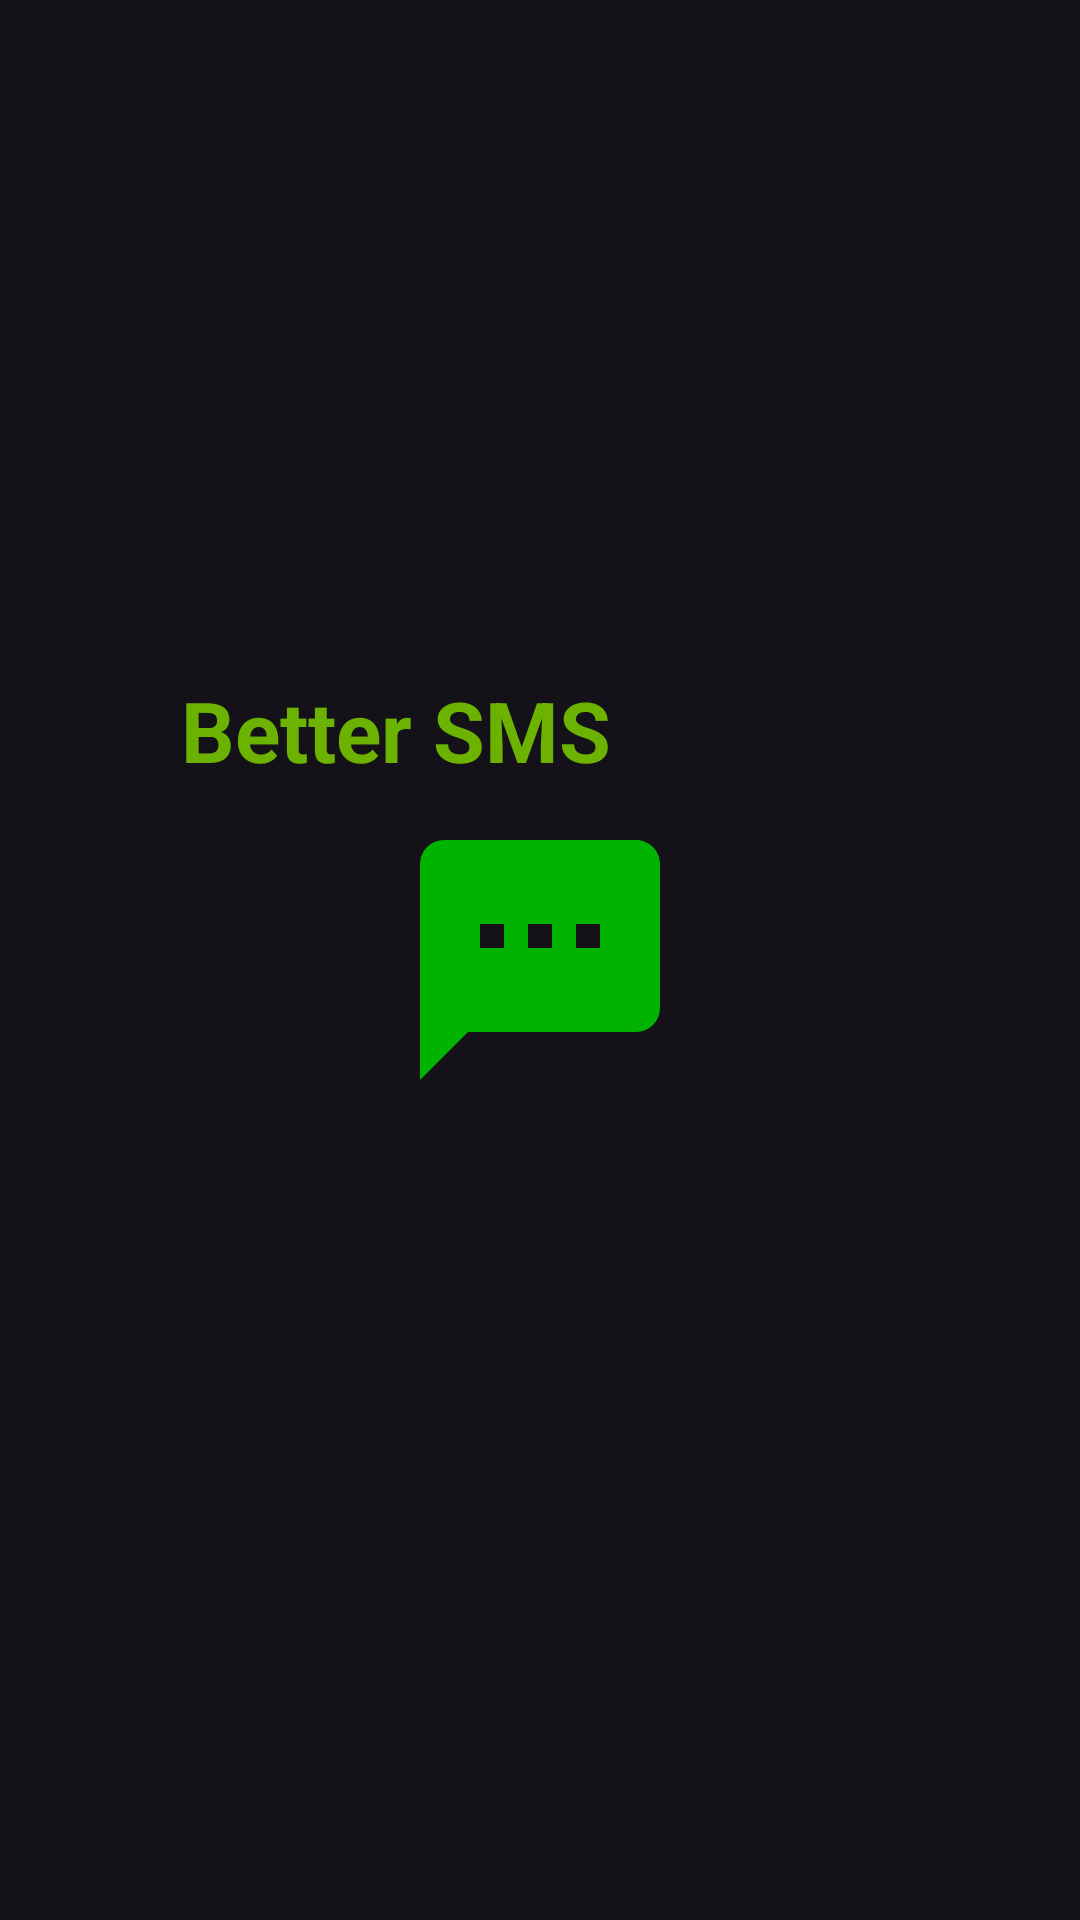

Point at icon controls on the screen. Image size 1080px x 1920px, points as [x,y].
message: [540,960]
